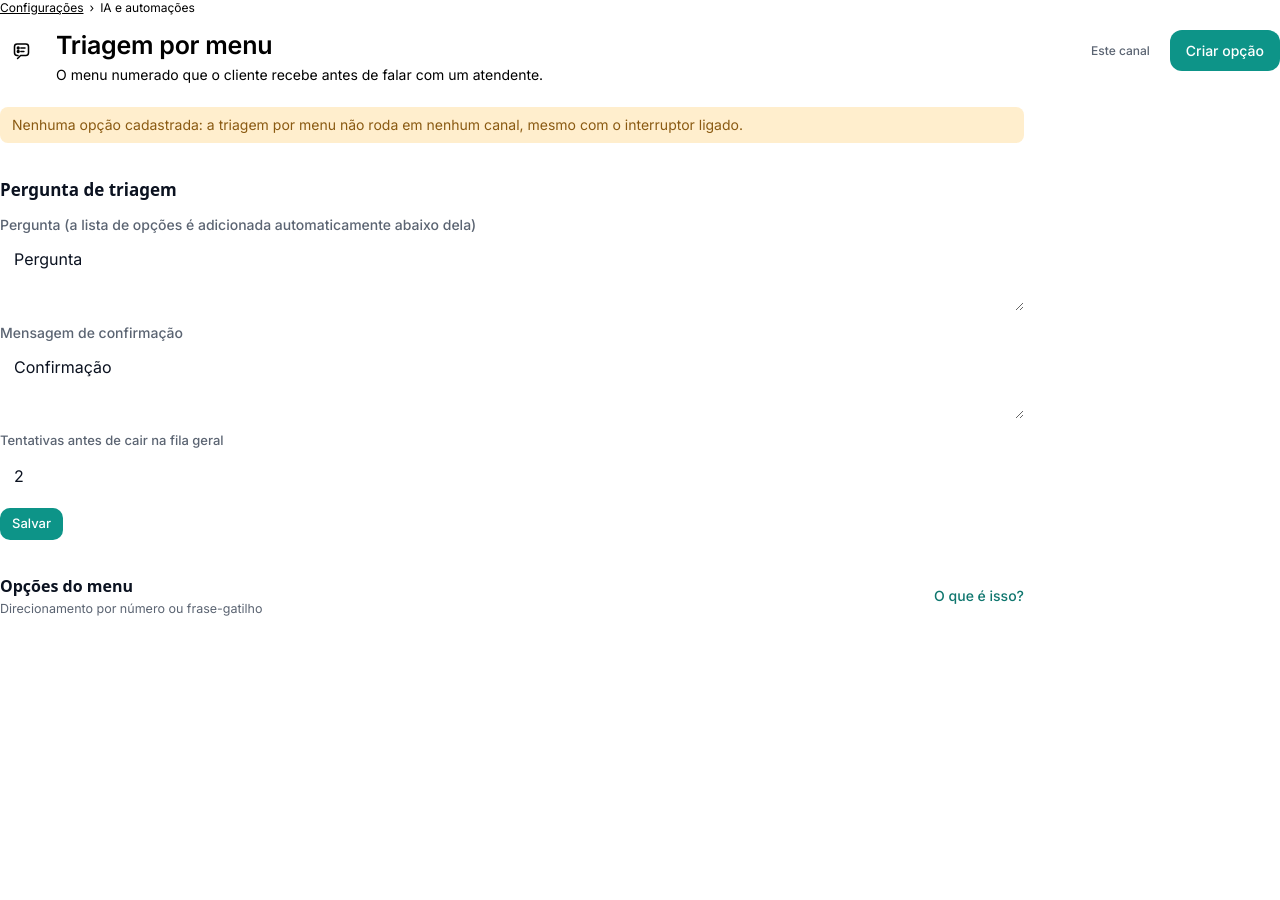
MenuTriagePage › shows a help popup explaining what triage options are, with an example
Click the button "O que é isso?": (979, 596) [934, 586, 1024, 606]
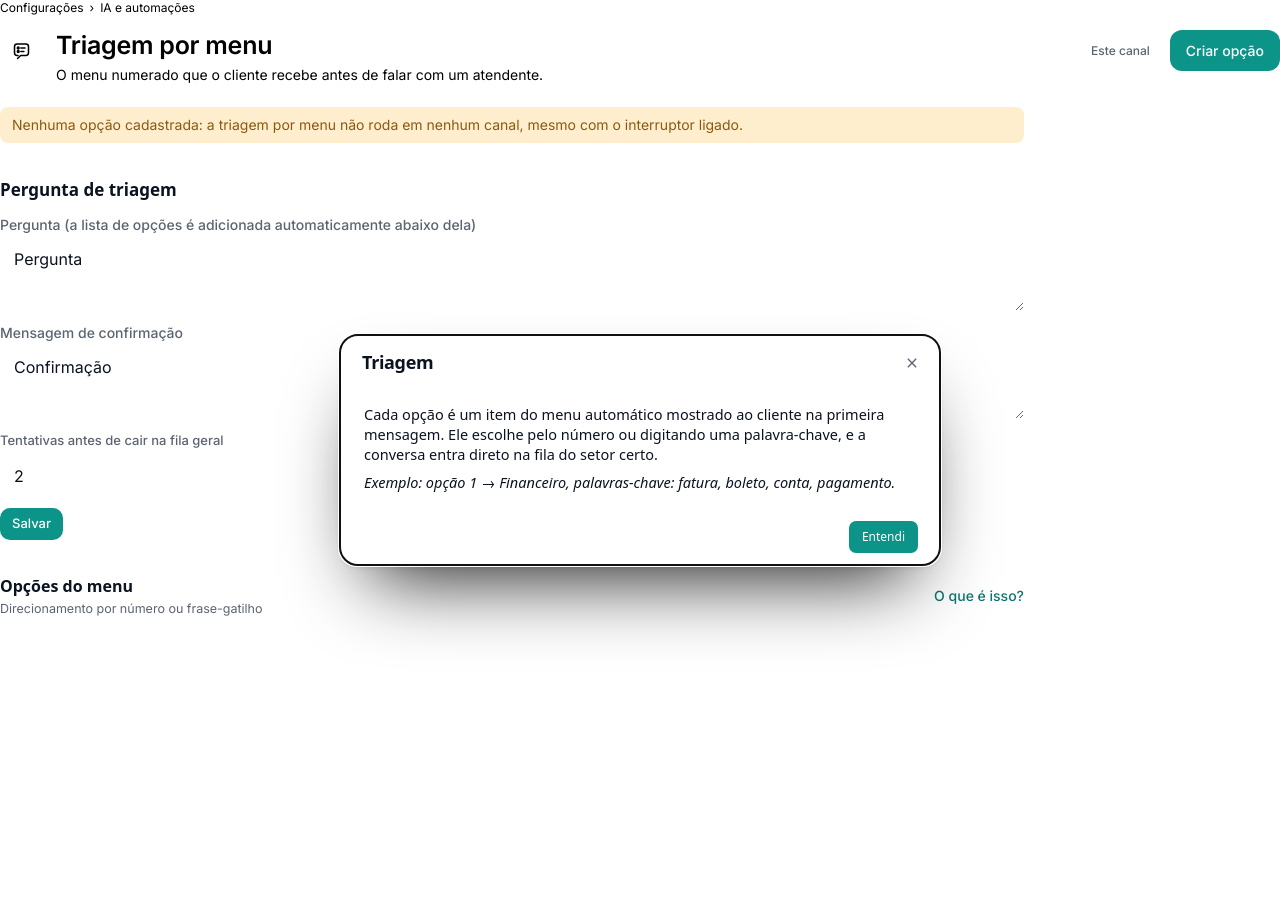
Expected: the text "Exemplo:" is shown, [364, 472, 895, 492]
